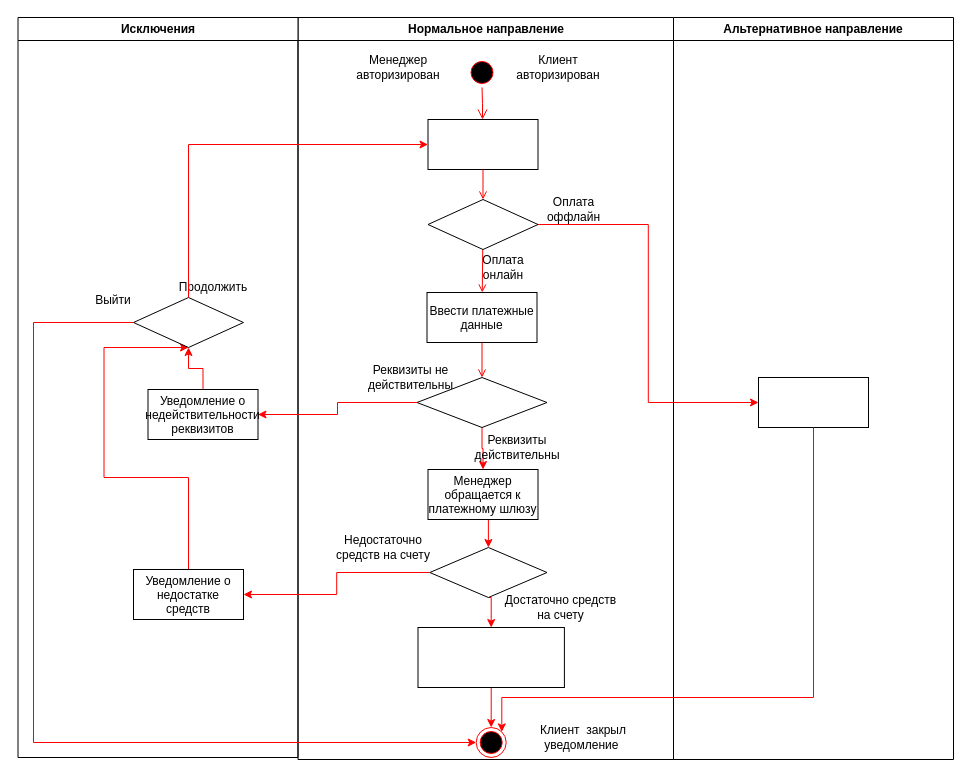
This 971x777 diagram has some shape labels left out. The centre of each missing label's shape, as x and y in pixels:
"Выбрать способ оплаты" belongs at pixel 482 144.
"Клиент получает уведомление об оффлайн-оплате" belongs at pixel 813 402.
"Уведомить пользователя об произведенной оплате" belongs at pixel 490 657.
